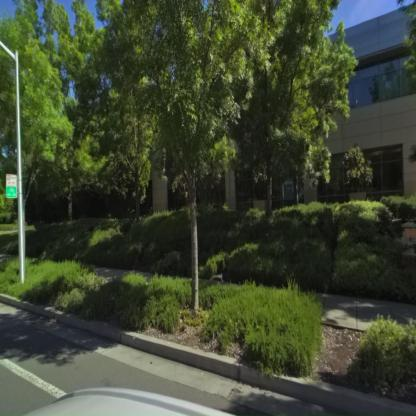sign: (5, 170, 21, 204)
